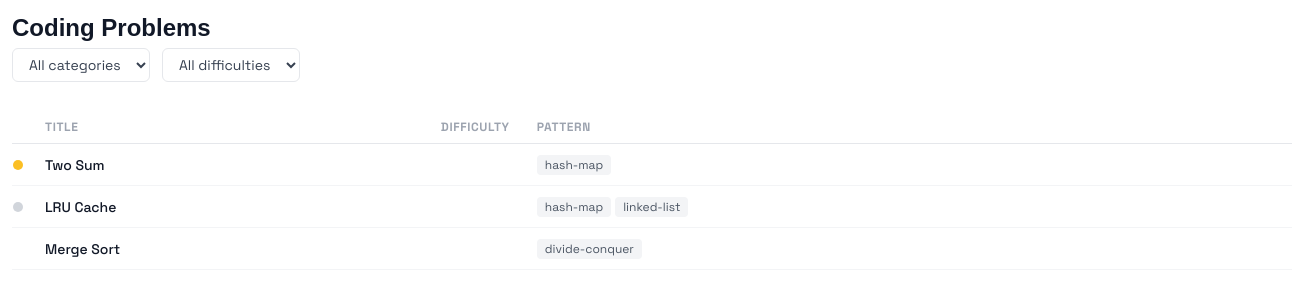
it: Problems Index Page › filters by category
This screenshot has width=1292, height=287.
Select "Sorting" in the 1st dropdown at x=81, y=65, box [12,48,150,82]
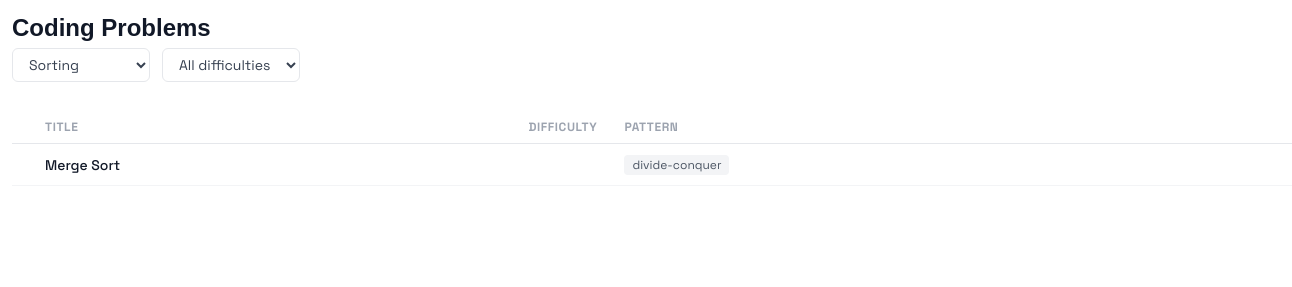
Expected: the text "Merge Sort" is shown, [44,144,528,186]
Now the text "Two Sum" is gone
